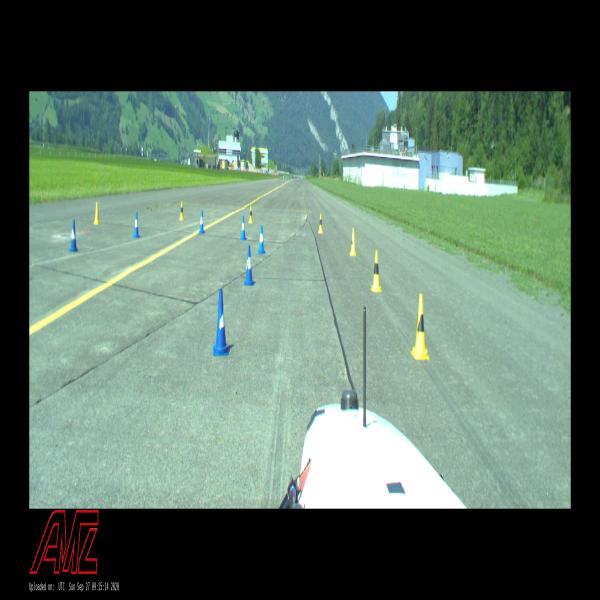blue_cone: (213, 288, 229, 356), (244, 245, 254, 286), (69, 220, 78, 252), (258, 224, 265, 254), (133, 211, 139, 238), (240, 215, 246, 241), (199, 210, 204, 234)
yellow_cone: (410, 294, 430, 360), (370, 250, 382, 292), (350, 228, 356, 256), (94, 202, 100, 225), (318, 213, 323, 234), (248, 205, 253, 224), (180, 201, 184, 220)
